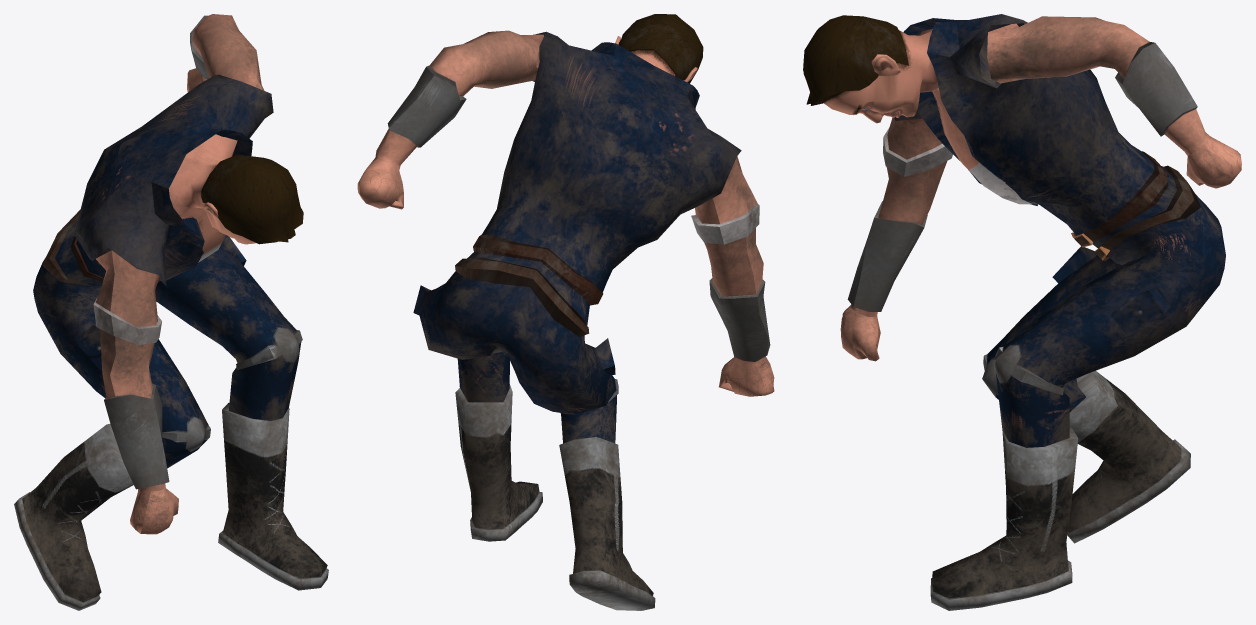
The model's file is Anim_coger_objeto_jugador.0028.obj.
The picture shows the model from 3 angles, left to right: view 1: azimuth 30°, elevation 25°; view 2: azimuth 150°, elevation 25°; view 3: azimuth 270°, elevation 25°; orthographic projection. The views are drawn at different scales.
Parts seen in each view (by area): view 1: polySurface1; view 2: polySurface1; view 3: polySurface1.
Part boxes in pixels (left/top/right/bottom): polySurface1: left=14, top=14, right=328, bottom=610; polySurface1: left=357, top=14, right=774, bottom=610; polySurface1: left=803, top=14, right=1241, bottom=610.
Size of the model in its own units: 3.52 by 7.1 by 4.73.
